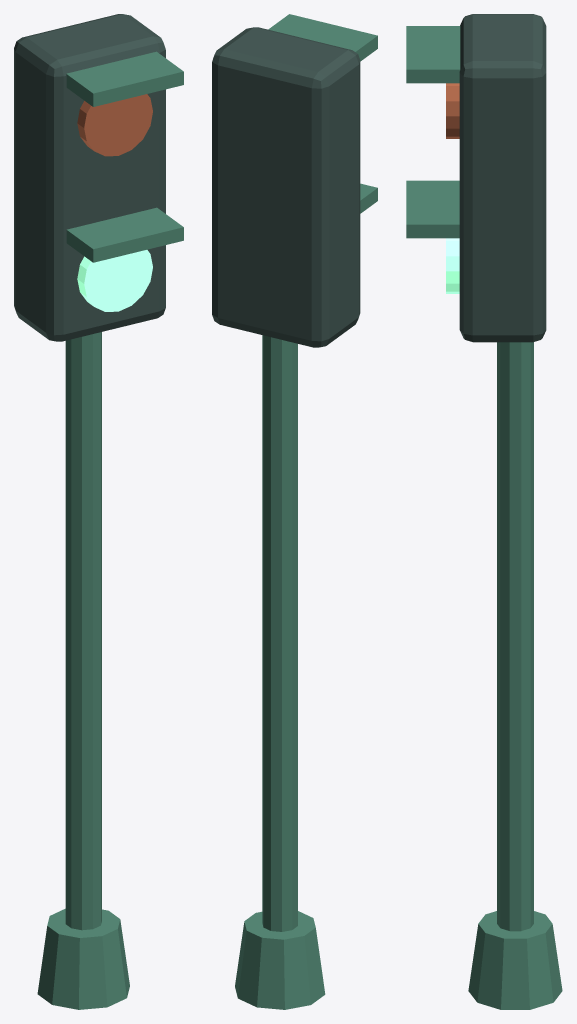
The model's file is tpe5_crossing_signal.glb.
The picture shows the model from 3 angles, left to right: view 1: azimuth 30°, elevation 25°; view 2: azimuth 150°, elevation 25°; view 3: azimuth 270°, elevation 25°; orthographic projection. The views are drawn at different scales.
Visible parts, largest first — view 1: tpe5_crossing_signal__tpe5-street-jade, tpe5_crossing_signal__tpe5-street-ink, tpe5_crossing_signal__tpe5-emissive-signal-go, tpe5_crossing_signal__tpe5-street-cinnabar; view 2: tpe5_crossing_signal__tpe5-street-ink, tpe5_crossing_signal__tpe5-street-jade; view 3: tpe5_crossing_signal__tpe5-street-jade, tpe5_crossing_signal__tpe5-street-ink, tpe5_crossing_signal__tpe5-street-cinnabar, tpe5_crossing_signal__tpe5-emissive-signal-go.
Part boxes in pixels (x1,y1,x2,y2): tpe5_crossing_signal__tpe5-street-jade: [37, 51, 183, 1009]; tpe5_crossing_signal__tpe5-street-ink: [14, 14, 165, 341]; tpe5_crossing_signal__tpe5-emissive-signal-go: [77, 250, 152, 311]; tpe5_crossing_signal__tpe5-street-cinnabar: [77, 94, 152, 156]; tpe5_crossing_signal__tpe5-street-ink: [212, 27, 360, 347]; tpe5_crossing_signal__tpe5-street-jade: [235, 14, 377, 1009]; tpe5_crossing_signal__tpe5-street-jade: [406, 26, 562, 1009]; tpe5_crossing_signal__tpe5-street-ink: [459, 14, 546, 342]; tpe5_crossing_signal__tpe5-street-cinnabar: [446, 83, 459, 138]; tpe5_crossing_signal__tpe5-emissive-signal-go: [446, 238, 459, 293].
Bounding box in the file's own units: 0.55 × 4.24 × 0.63.
